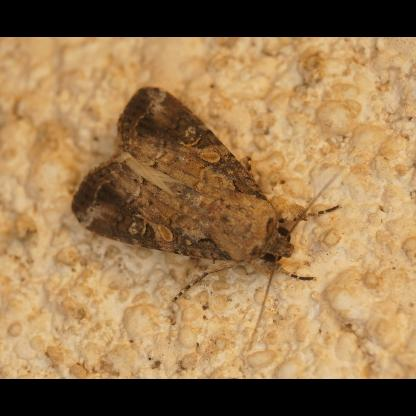Fall Armyworm Moth: (70, 84, 342, 304)
